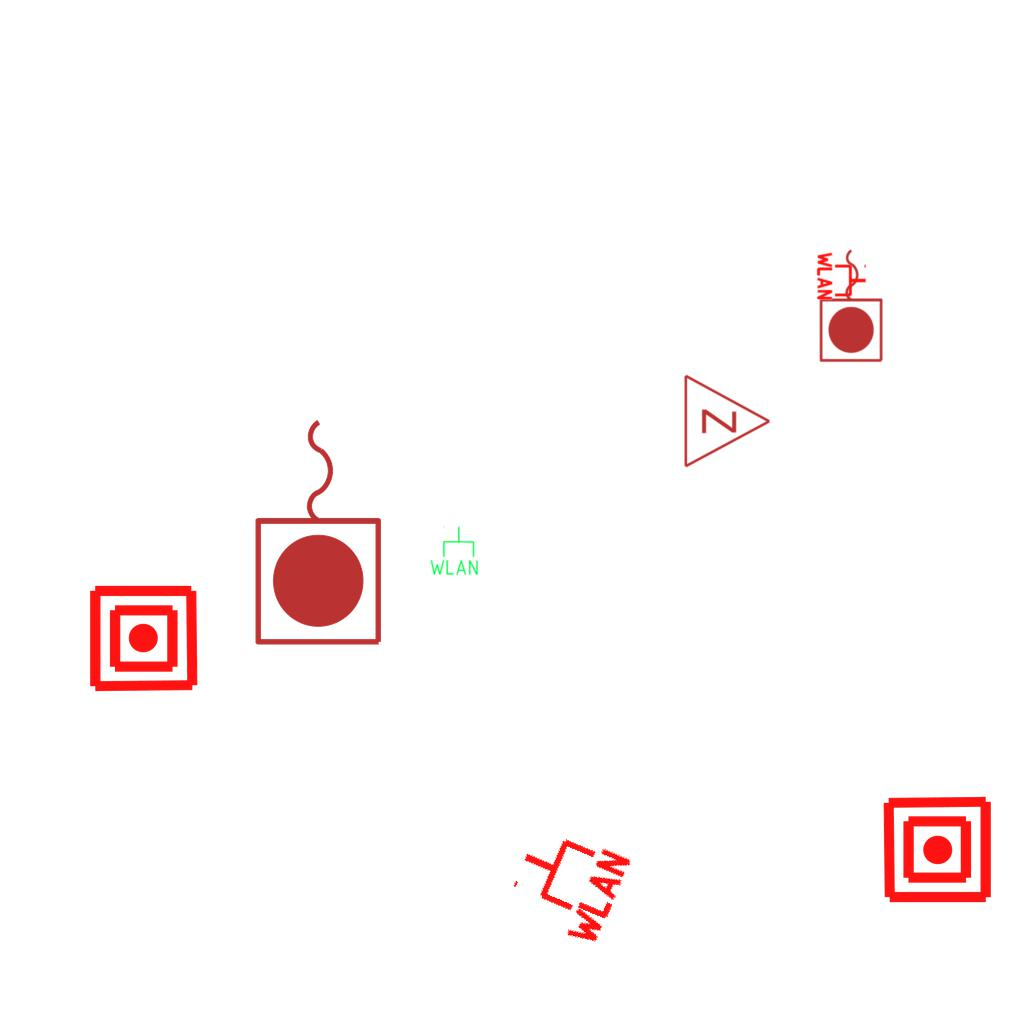NAM-Nichtautomatischer_Melder: (87, 582, 200, 695), (881, 793, 994, 906)
WLAN: (497, 815, 636, 953), (428, 525, 480, 577), (816, 250, 868, 302)
Zimmersignalleuchte: (677, 371, 777, 469)
Zugtaster: (248, 409, 392, 653), (816, 244, 888, 366)
